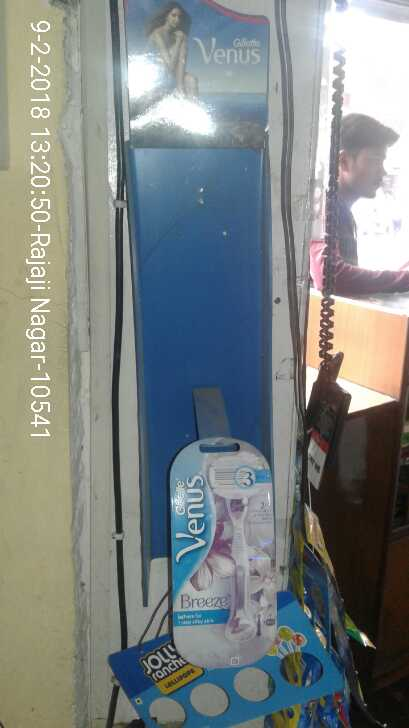venus: (162, 423, 278, 675)
